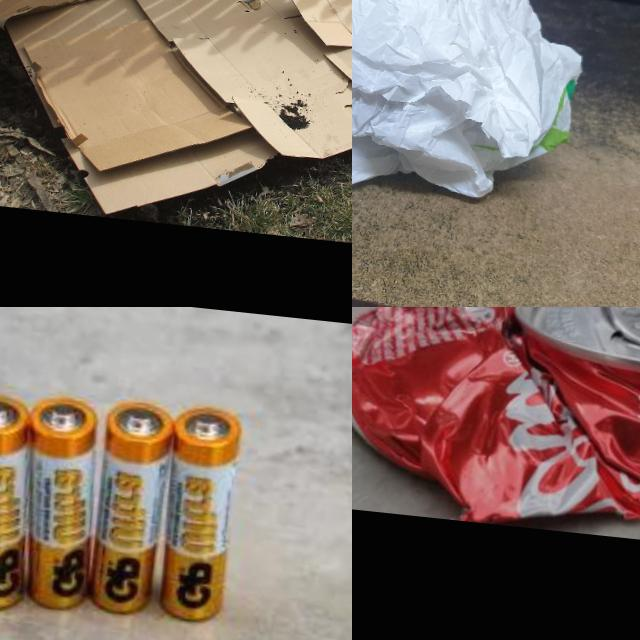aba de lata: (593, 307, 640, 349)
bateria: (9, 392, 106, 613), (80, 396, 172, 618), (154, 403, 242, 624), (0, 390, 44, 617)
lata: (352, 307, 640, 549)
papelão: (0, 0, 352, 266)
sacola plástica: (352, 0, 595, 211)
